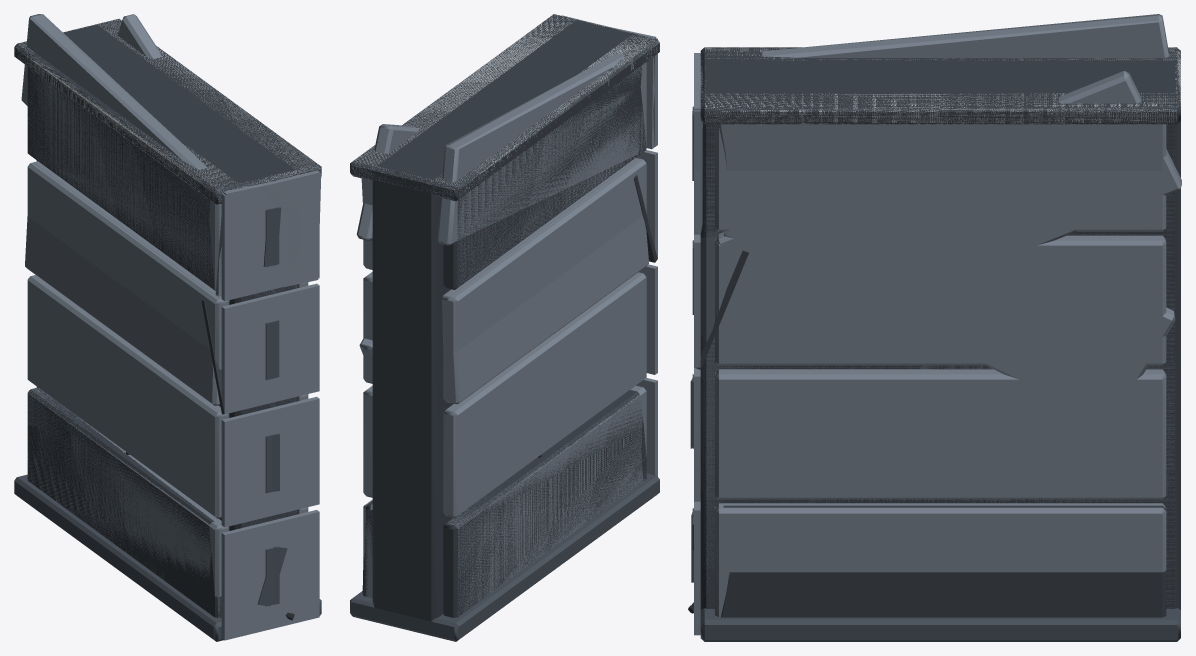
File: shr_cmp_generic_panel_reinforced_a.glb
3 renders of one model, left to right at view 1: azimuth 30°, elevation 25°; view 2: azimuth 150°, elevation 25°; view 3: azimuth 270°, elevation 25°, orthographic. The views are drawn at different scales.
Visible parts, largest first — view 1: mesh_intact, mesh_heavy, mesh_light; view 2: mesh_heavy, mesh_intact, mesh_light; view 3: mesh_intact, mesh_heavy, mesh_light.
Boxes of the visible parts, x1,y1,x2,y2 form: mesh_intact: (27,67,319,640); mesh_heavy: (14,14,321,641); mesh_light: (14,14,320,605); mesh_heavy: (350,14,659,641); mesh_intact: (363,15,657,615); mesh_light: (352,14,659,612); mesh_intact: (692,81,1174,635); mesh_heavy: (688,47,1181,641); mesh_light: (691,14,1180,582).
Bounding box in the file's own units: 0.3 × 1.28 × 1.
